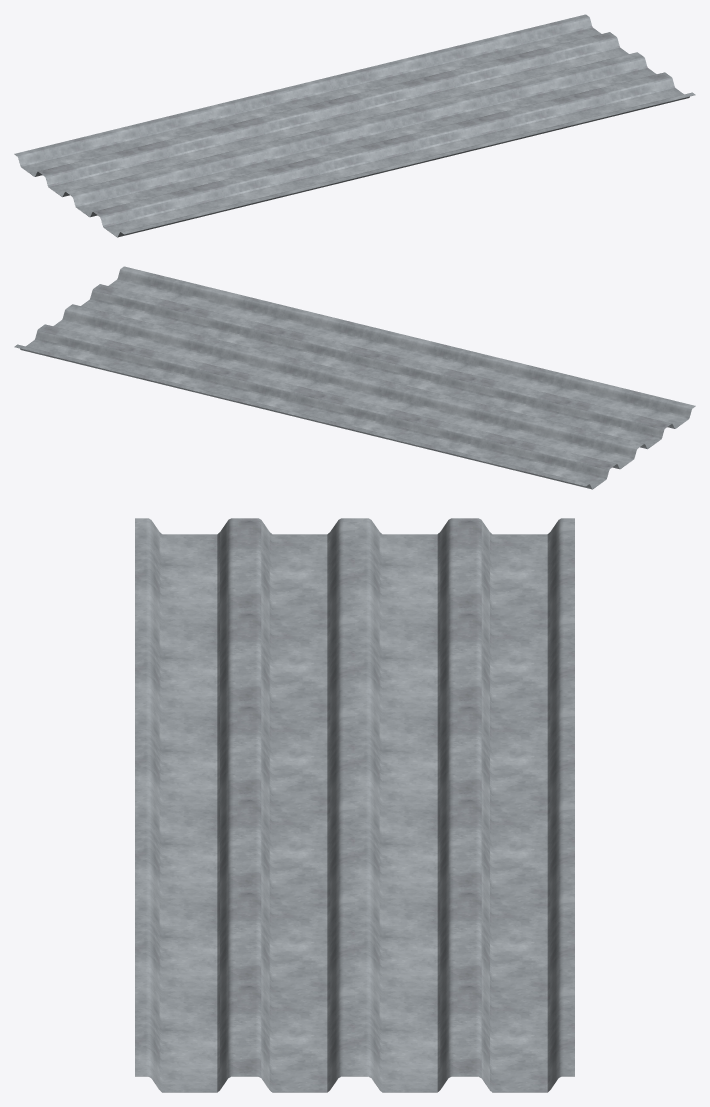
Rendered from COB-MTL-001.glb.
The picture shows the model from 3 angles, top to bottom: view 1: azimuth 30°, elevation 25°; view 2: azimuth 150°, elevation 25°; view 3: azimuth 270°, elevation 25°; orthographic projection. The views are drawn at different scales.
Visible parts, largest first — view 1: COB-MTL-001_chapa; view 2: COB-MTL-001_chapa; view 3: COB-MTL-001_chapa.
Part boxes in pixels (x1=…): COB-MTL-001_chapa: x1=14, y1=14, x2=695, y2=237; COB-MTL-001_chapa: x1=14, y1=266, x2=695, y2=489; COB-MTL-001_chapa: x1=135, y1=518, x2=574, y2=1092.
Bounding box in the file's own units: 3 × 0.0407 × 1.
Materials: 1 (1 with a texture image).
